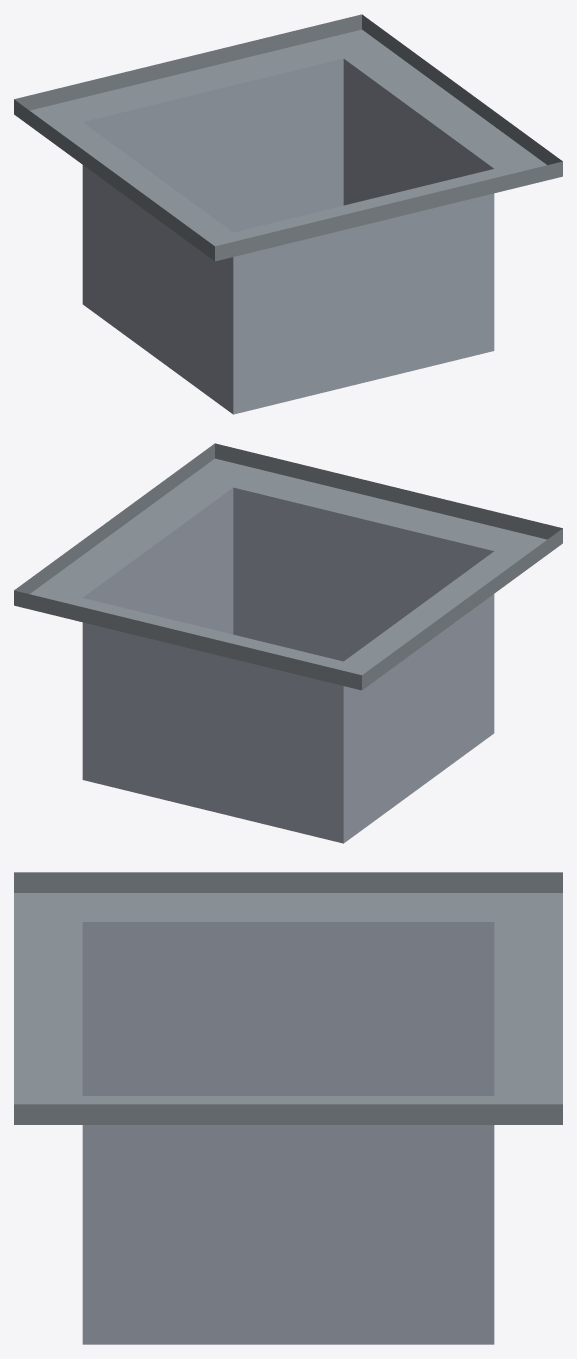
Rendered from cell_67.obj.
The picture shows the model from 3 angles, top to bottom: view 1: azimuth 30°, elevation 25°; view 2: azimuth 150°, elevation 25°; view 3: azimuth 270°, elevation 25°; orthographic projection. The views are drawn at different scales.
Bounding box in the file's own units: 0.75 × 0.4062 × 0.75.
